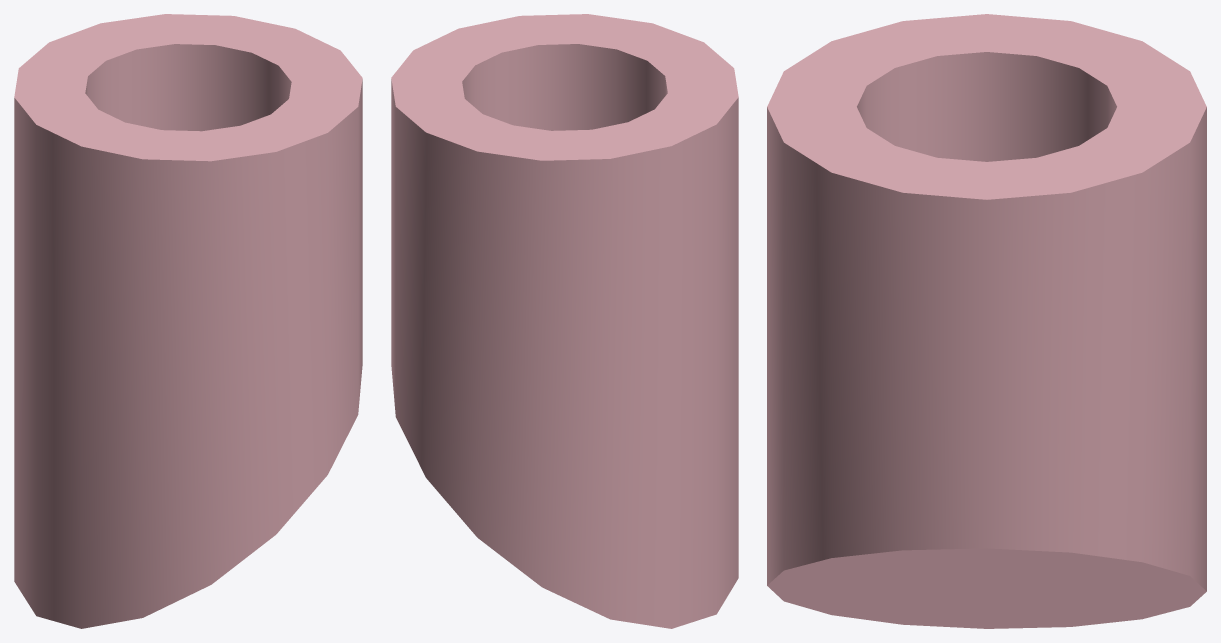
Rendered from Vent.fbx.
3 renders of one model, left to right at view 1: azimuth 30°, elevation 25°; view 2: azimuth 150°, elevation 25°; view 3: azimuth 270°, elevation 25°, orthographic. The views are drawn at different scales.
Parts seen in each view (by area): view 1: Vent; view 2: Vent; view 3: Vent.
Boxes of the visible parts, bbox=[...] form: Vent: bbox=[14, 14, 362, 628]; Vent: bbox=[391, 14, 738, 628]; Vent: bbox=[767, 14, 1206, 628].
Size of the model in its own units: 100 by 154 by 100.
